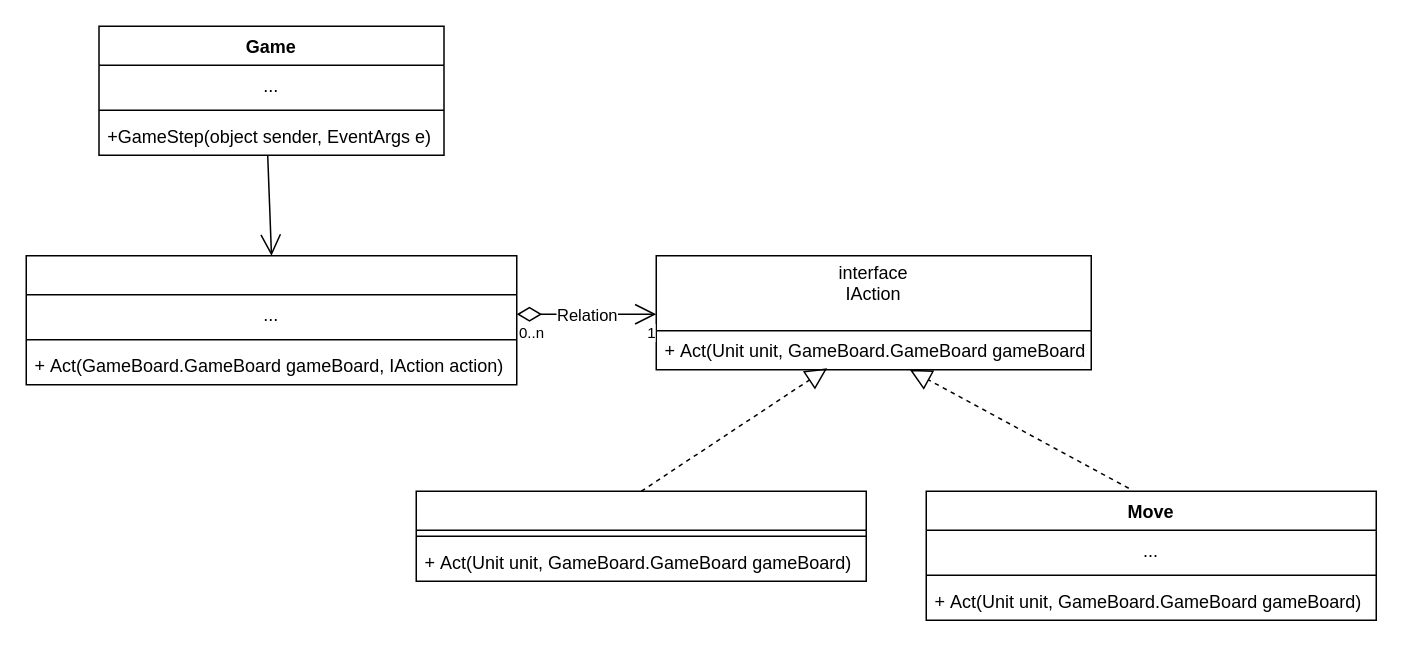
The diagram is 1403 pixels wide and 651 high, and some of its shapes have lost their labels. The box of each missing label's shape, as (x1, y1, x2, y2) in pixels:
Attack: (415, 490, 866, 581)
Unit: (25, 254, 517, 385)
